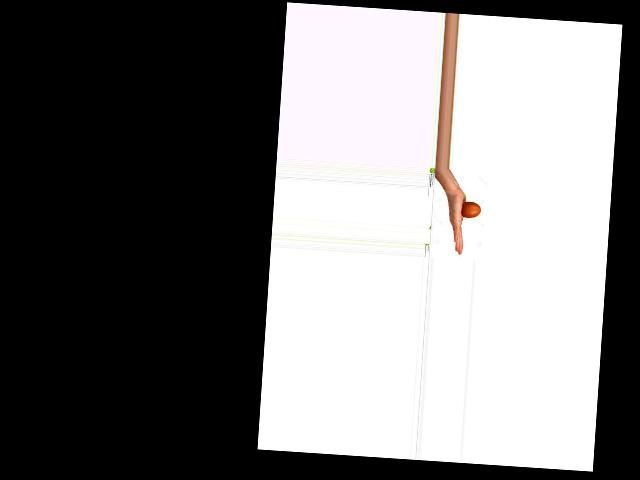egg: (460, 201, 480, 219)
